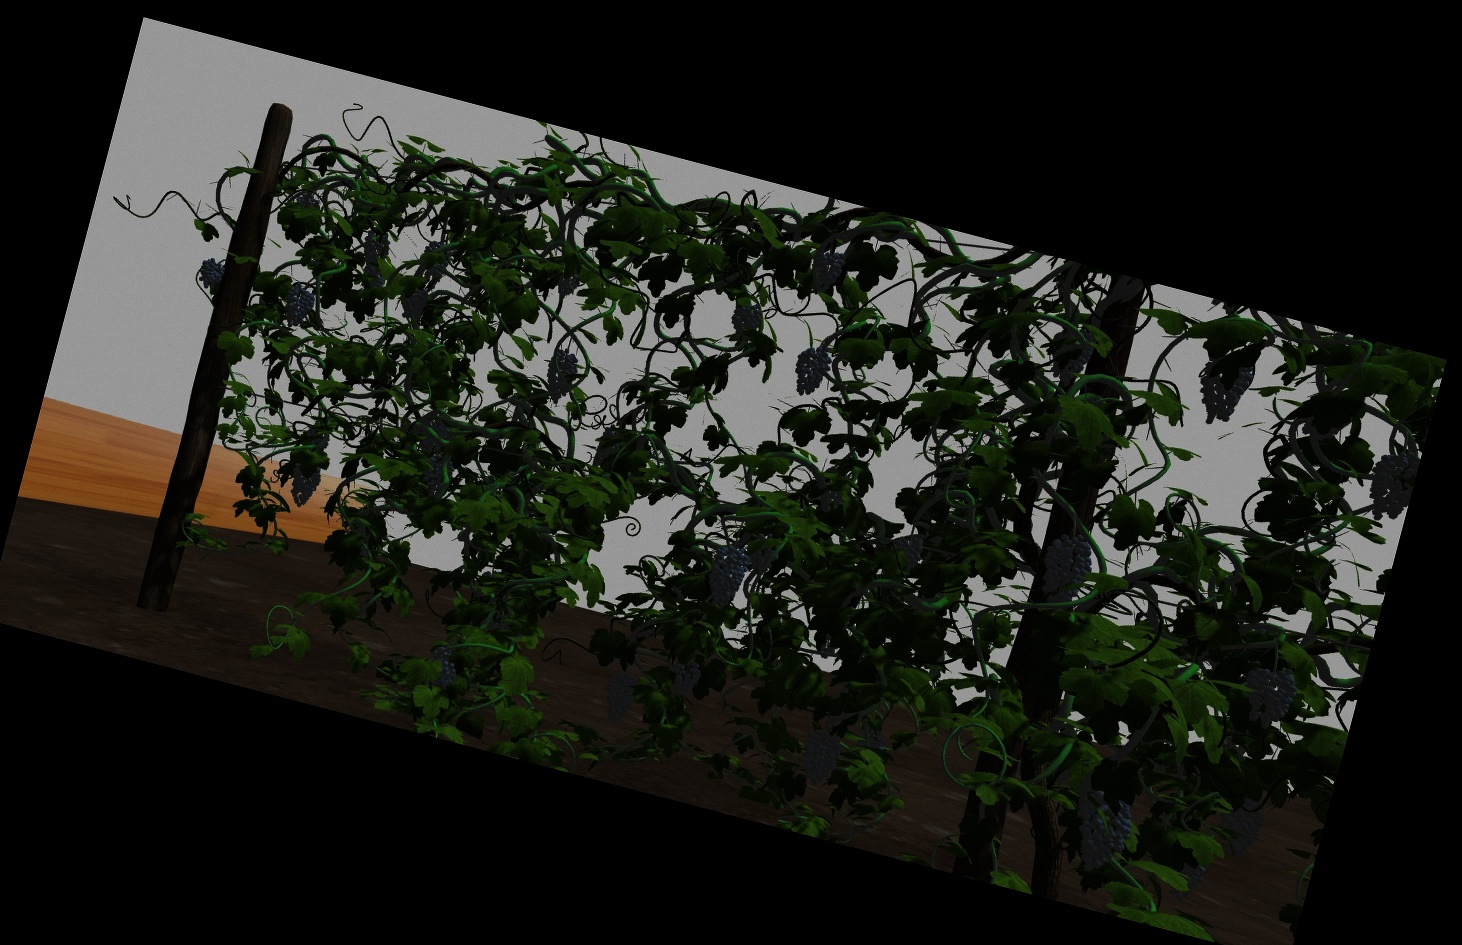grape: (1071, 791, 1131, 878), (1040, 535, 1090, 610), (1193, 358, 1247, 425), (1242, 666, 1293, 731), (1368, 450, 1411, 521), (1050, 330, 1092, 386), (706, 545, 743, 606), (1222, 800, 1261, 856), (800, 730, 838, 785), (792, 347, 828, 397), (545, 349, 576, 404), (603, 671, 636, 723), (809, 250, 842, 296), (282, 284, 315, 329), (288, 465, 318, 509), (667, 661, 699, 701), (428, 645, 456, 688), (748, 539, 778, 577), (729, 302, 761, 336), (892, 536, 920, 573), (397, 286, 425, 320), (196, 256, 222, 291)
